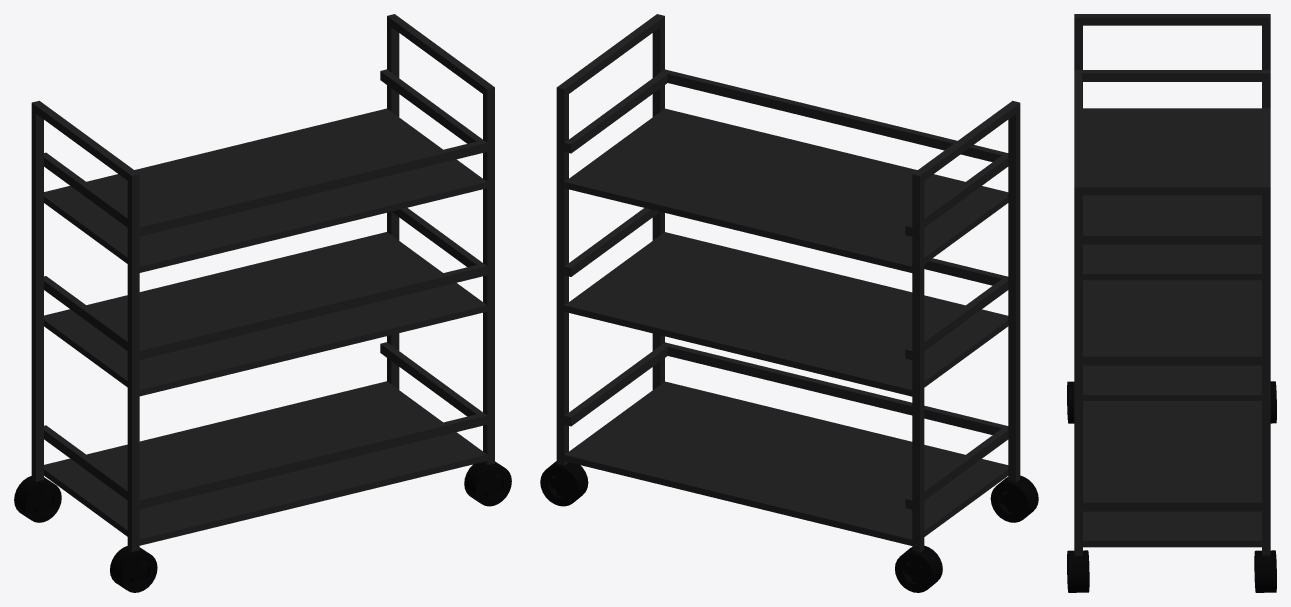
File: Trolley_05.glb
3 views of the same model, side by side, from view 1: azimuth 30°, elevation 25°; view 2: azimuth 150°, elevation 25°; view 3: azimuth 270°, elevation 25° (orthographic). The views are drawn at different scales.
Parts seen in each view (by area): view 1: Mesh_Trolley_05; view 2: Mesh_Trolley_05; view 3: Mesh_Trolley_05.
Boxes of the visible parts, left/top/right/bottom form: Mesh_Trolley_05: left=14, top=14, right=511, bottom=592; Mesh_Trolley_05: left=540, top=14, right=1038, bottom=592; Mesh_Trolley_05: left=1067, top=14, right=1276, bottom=592.
Size of the model in its own units: 0.9037 by 0.9129 by 0.428.
Materials: 1 (1 with a texture image).
